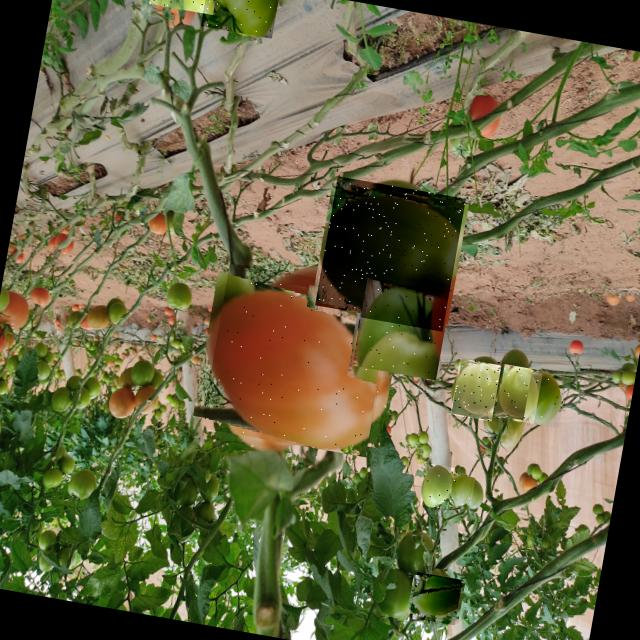Ripe Tomato: (200, 262, 396, 457)
Unripe Tomato: (314, 175, 466, 328), (351, 272, 452, 379), (450, 358, 501, 421), (200, 0, 280, 38), (492, 364, 542, 424), (409, 572, 462, 625), (522, 372, 566, 428), (420, 463, 455, 509), (148, 0, 219, 15), (448, 474, 475, 509)
